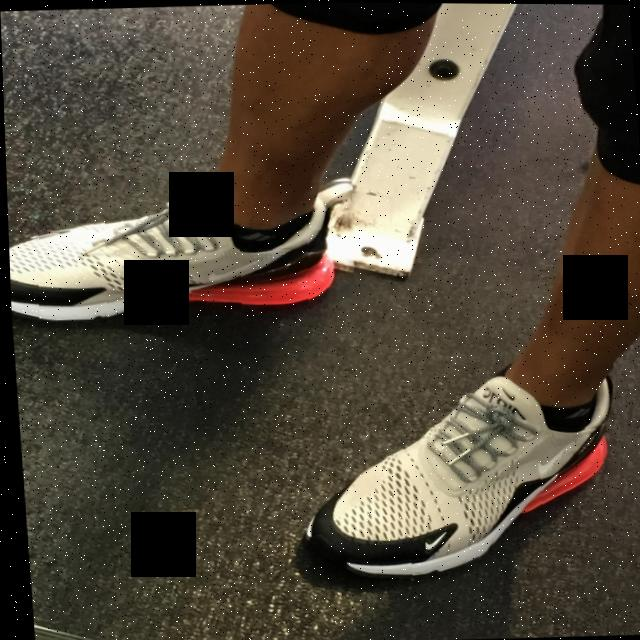shoe: (291, 348, 624, 583), (5, 173, 359, 323)
